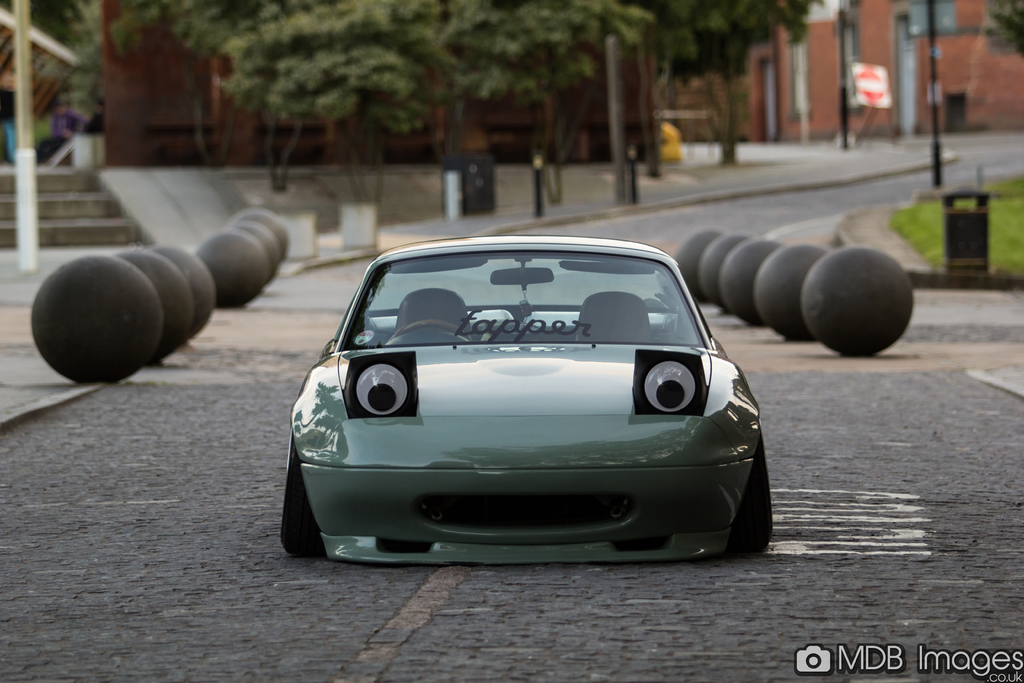Ball: (29, 209, 293, 386), (673, 225, 920, 361)
